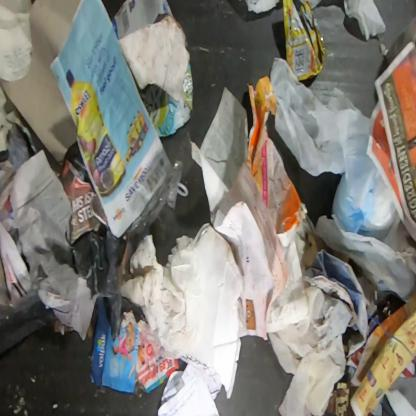cardboard: (111, 0, 194, 138), (246, 74, 308, 235)
soft_plastic: (269, 57, 396, 242), (121, 160, 189, 251), (0, 288, 59, 356), (282, 0, 327, 82)
